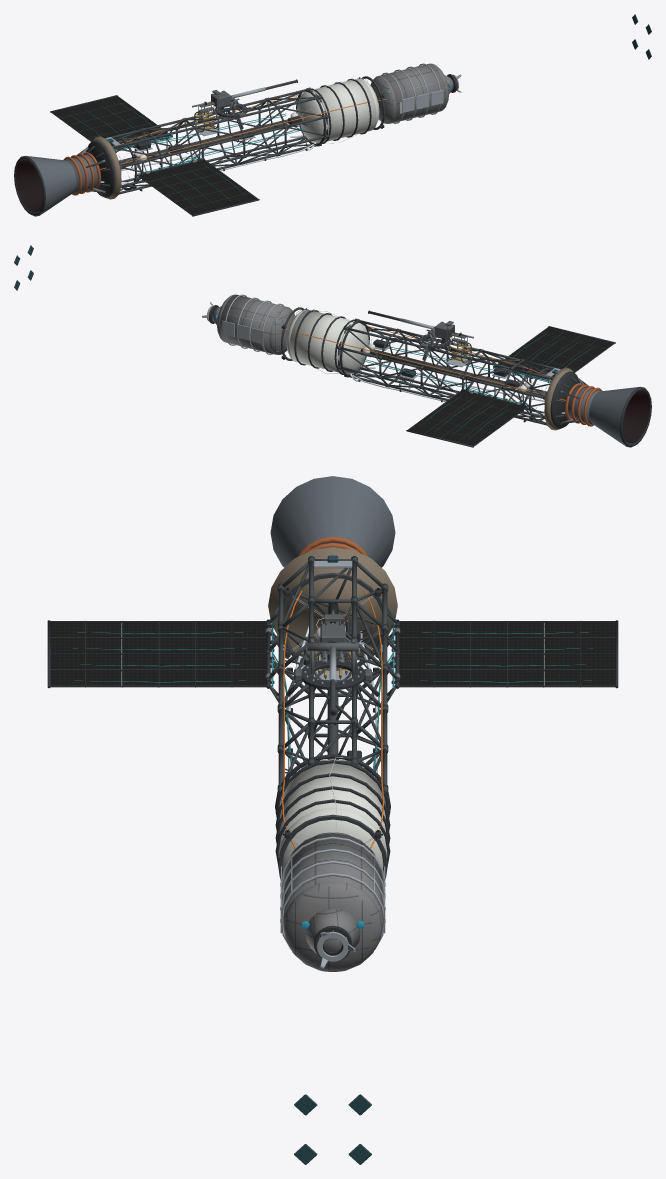
The model's file is asterion_mk1.glb.
The picture shows the model from 3 angles, top to bottom: view 1: azimuth 30°, elevation 25°; view 2: azimuth 150°, elevation 25°; view 3: azimuth 270°, elevation 25°; orthographic projection. The views are drawn at different scales.
Visible parts, largest first — view 1: FUEL_MainTankCylinder, HAB_PressureCylinder, ENGINE_MagneticNozzle, ENGINE_NozzleInterior, FUEL_AftDome, SHIELD_HotSideHighZ, HAB_AftDome, STRUCTURE_CentralSpine, ENGINE_ReactorChamber, SHIELD_ForwardHydride, ENGINE_NozzleLip, UTIL_HVDCBus_S; view 2: FUEL_MainTankCylinder, HAB_PressureCylinder, ENGINE_MagneticNozzle, ENGINE_NozzleInterior, FUEL_AftDome, SHIELD_HotSideHighZ, HAB_AftDome, STRUCTURE_CentralSpine, ENGINE_ReactorChamber, SHIELD_ForwardHydride, ENGINE_NozzleLip, UTIL_HVDCBus_P; view 3: ENGINE_MagneticNozzle, SHIELD_ForwardHydride, HAB_ForwardDome, HAB_PressureCylinder, FUEL_MainTankCylinder, FUEL_ForwardDome, HAB_DockingPressureTunnel, GUN_SlewBearing.
Part boxes in pixels (x1,y1,x2,y2): FUEL_MainTankCylinder: (311,78,376,142); HAB_PressureCylinder: (379,63,446,123); ENGINE_MagneticNozzle: (18,155,76,216); ENGINE_NozzleInterior: (16,160,42,212); FUEL_AftDome: (297,92,327,143); SHIELD_HotSideHighZ: (86,140,115,197); HAB_AftDome: (370,75,396,123); STRUCTURE_CentralSpine: (119,117,305,165); ENGINE_ReactorChamber: (63,154,97,193); SHIELD_ForwardHydride: (89,136,121,199); ENGINE_NozzleLip: (14,156,45,216); UTIL_HVDCBus_S: (100,99,386,169); FUEL_MainTankCylinder: (289,309,354,373); HAB_PressureCylinder: (219,294,286,354); ENGINE_MagneticNozzle: (589,386,647,447); ENGINE_NozzleInterior: (623,391,649,443); FUEL_AftDome: (338,323,368,374); SHIELD_HotSideHighZ: (550,371,579,428); HAB_AftDome: (269,306,295,354); STRUCTURE_CentralSpine: (360,348,546,395); ENGINE_ReactorChamber: (568,385,602,424); SHIELD_ForwardHydride: (544,367,576,430); ENGINE_NozzleLip: (620,387,651,447); UTIL_HVDCBus_P: (279,330,565,400); ENGINE_MagneticNozzle: (270,476,395,567); SHIELD_ForwardHydride: (268,547,397,660); HAB_ForwardDome: (283,881,382,971); HAB_PressureCylinder: (283,833,382,925); FUEL_MainTankCylinder: (278,760,387,855); FUEL_ForwardDome: (278,808,387,868); HAB_DockingPressureTunnel: (305,909,360,953); GUN_SlewBearing: (301,659,364,689).
Size of the model in its own units: 59.38 by 7.51 by 23.93.
23 materials, 2 textured.
